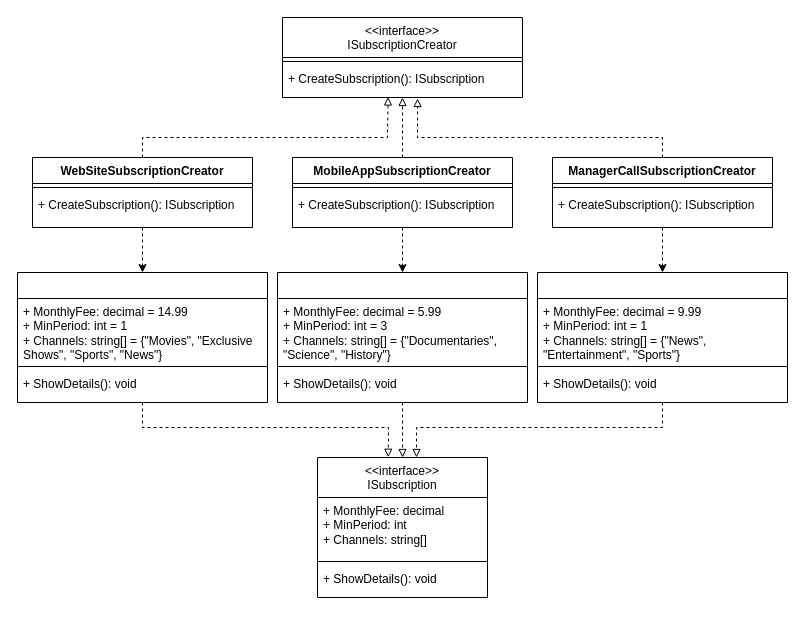
The diagram is 805 pixels wide and 618 high, and some of its shapes have lost their labels. Each missing label, with the box of its shape:
DomesticSubscription: (536, 272, 788, 402)
EducationalSubscription: (276, 272, 528, 402)
PremiumSubscription: (16, 272, 268, 402)
